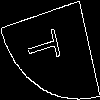T: (25, 25, 68, 66)
